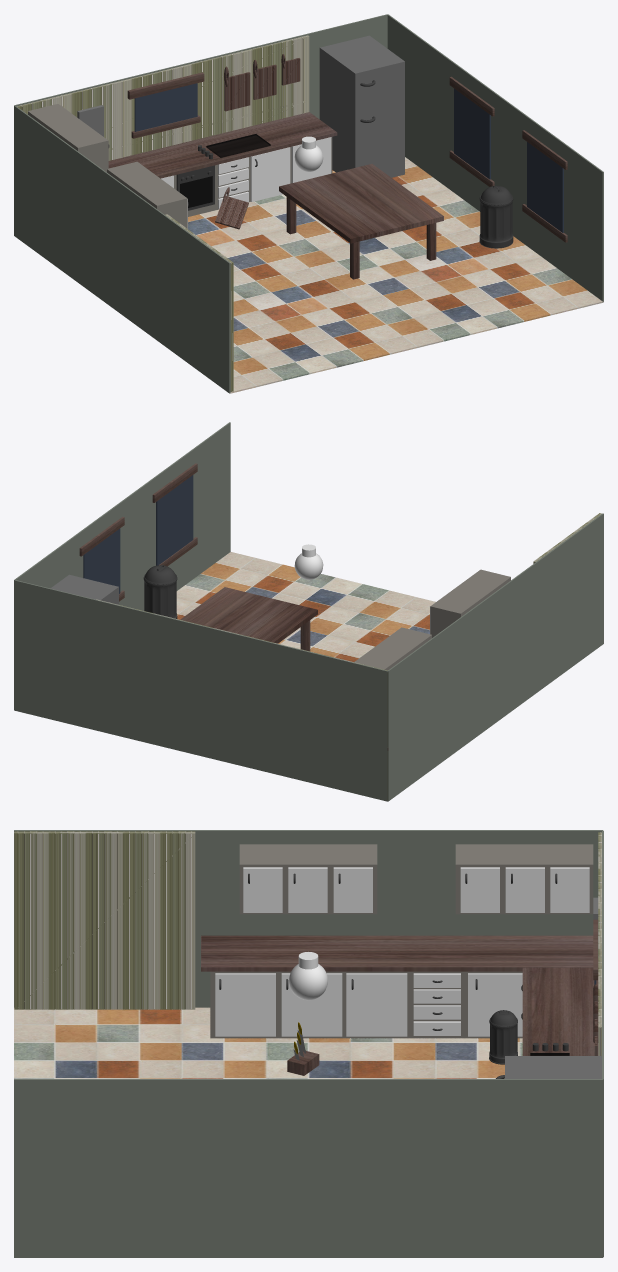
The model's file is Kitchen_floor.fbx.
3 renders of one model, top to bottom at view 1: azimuth 30°, elevation 25°; view 2: azimuth 150°, elevation 25°; view 3: azimuth 270°, elevation 25°, orthographic. The views are drawn at different scales.
Visible parts, largest first — view 1: floor, wall2, wall3, pCube24, pCube9, pCube19 (×3), pCube20, pCube2, pCube10, wall1, pCube22, pCube45 (×3) (+13 smaller); view 2: wall1, wall2, wall3, floor, pCube9, pCube19 (×2), pCube5, pCube4, TrashCan:polySurface9, pCube10, pSphere1; view 3: wall3, pCube25, wall2, floor, pCube12, pCube20, pCube5, pCube4, pCube30, pCube27, pCube28, pCube29 (+18 smaller).
Part boxes in pixels (x1,y1,x2,y2): floor: (188,157,603,393); wall2: (14,105,230,393); wall3: (387,14,603,302); pCube24: (17,35,309,149); pCube9: (279,164,443,243); pCube19 (×3): (134,83,563,232); pCube20: (108,112,337,178); pCube2: (319,84,404,177); pCube10: (319,35,404,112); wall1: (14,14,387,118); pCube22: (108,100,309,160); pCube45 (×3): (215,64,276,229); wall1: (14,580,387,801); wall2: (388,513,603,801); wall3: (14,422,230,709); floor: (176,552,435,661); pCube9: (180,587,317,643); pCube19 (×2): (83,475,193,593); pCube5: (430,569,510,637); pCube4: (354,627,431,670); TrashCan:polySurface9: (143,565,177,618); pCube10: (50,574,118,604); pSphere1: (294,553,323,579); wall3: (14,1079,602,1257); pCube25: (14,831,195,1009); wall2: (14,830,602,1007); floor: (14,1007,522,1078); pCube12: (201,935,598,971); pCube20: (522,967,598,1055); pCube5: (239,844,377,914); pCube4: (455,844,593,914); pCube30: (346,973,407,1036); pCube27: (215,973,275,1036); pCube28: (281,973,342,1036); pCube29: (468,973,522,1036).
Bounding box in the file's own units: 60.2 × 20.4 × 60.1.
13 materials, 3 textured.
